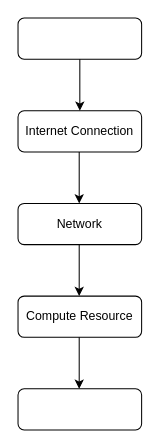
This 160x448 diagram has some shape labels left out. The shapes that lost their labels are listed below. From the top down, each one's centre as x and y in pixels, then its label:
the point at 79,38: User
the point at 79,409: Storage Resource
